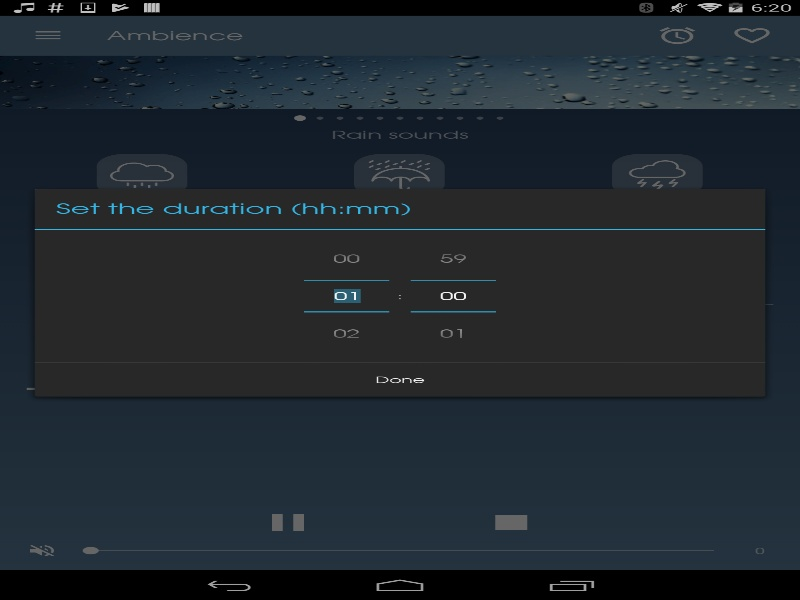Button: (34, 363, 765, 396), (410, 240, 496, 281), (410, 311, 496, 352), (304, 240, 389, 281), (304, 311, 389, 352)
Input: (410, 281, 496, 311), (304, 281, 389, 311)
